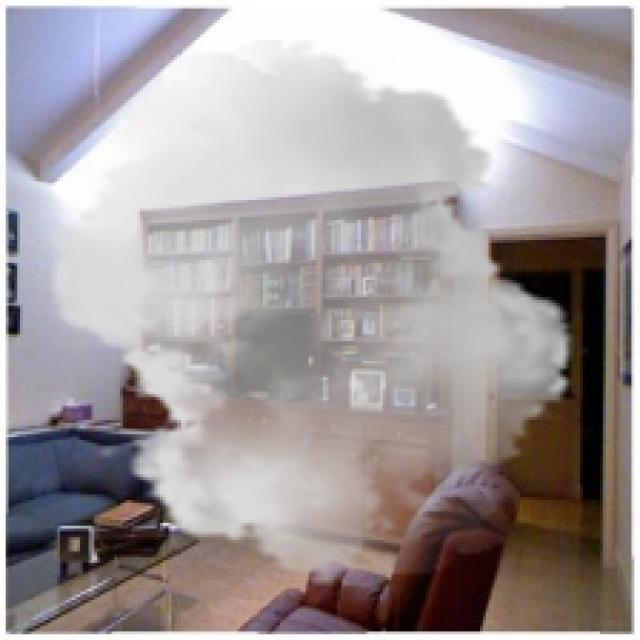Smoke: (28, 40, 594, 586)
